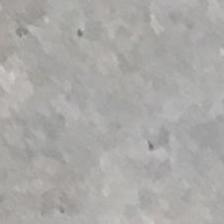Non_Crack: (26, 24, 224, 201)
